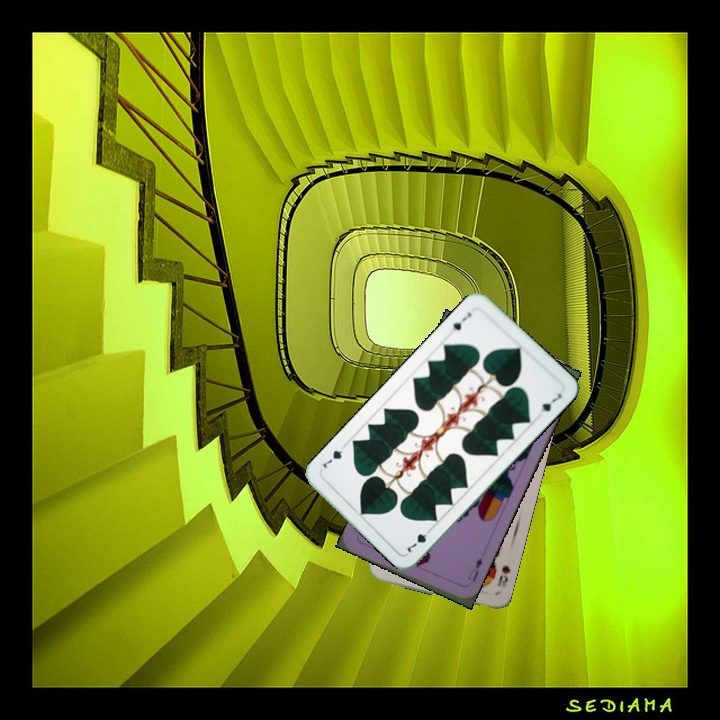EU: (464, 554, 485, 584)
G7: (402, 523, 435, 556), (448, 308, 474, 333)
S8: (493, 561, 513, 589)
